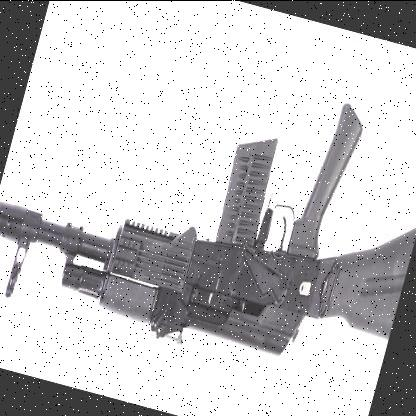rifle: (0, 25, 416, 416)
